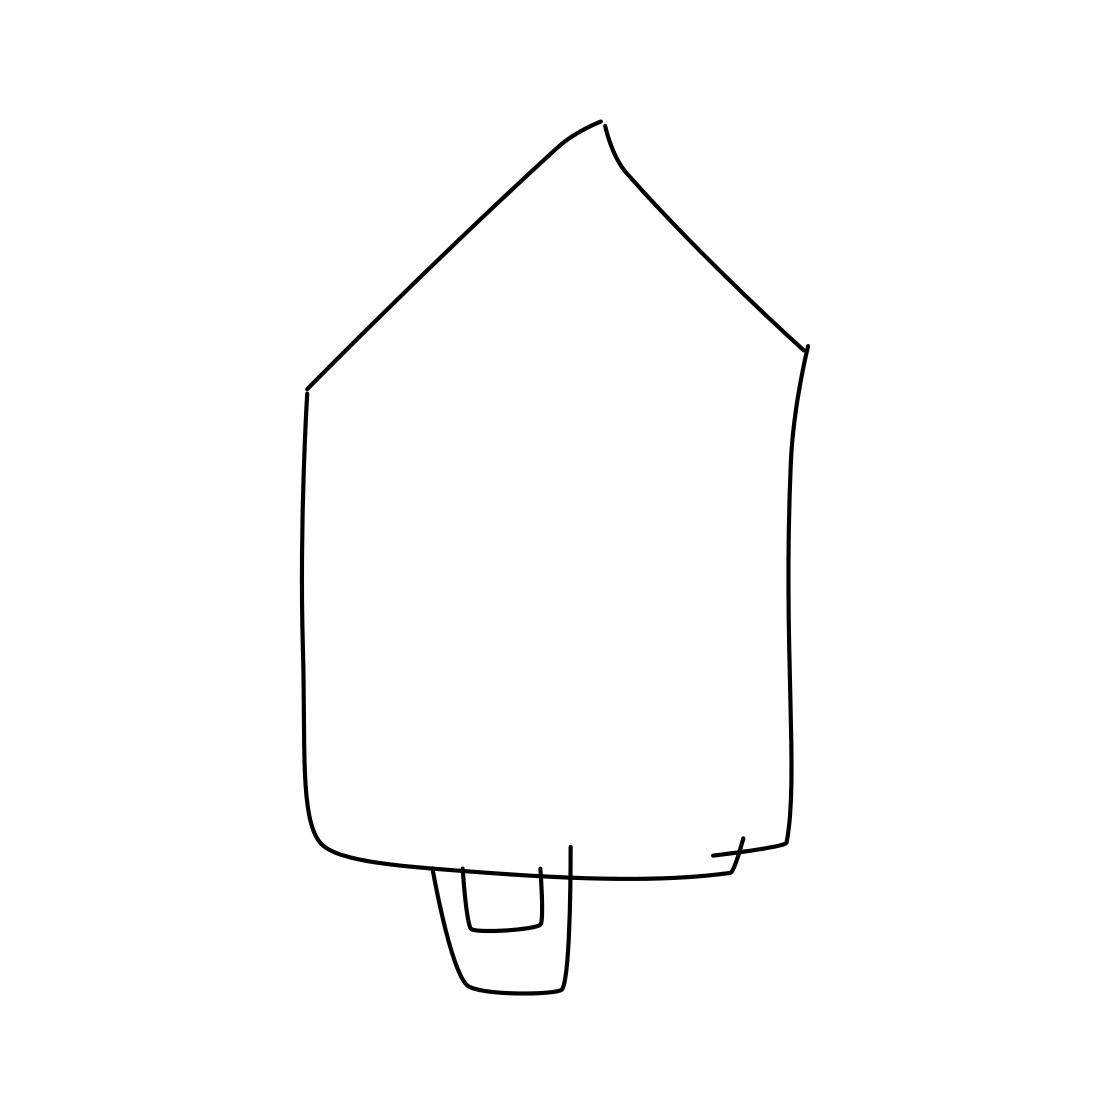House: (251, 113, 836, 883)
